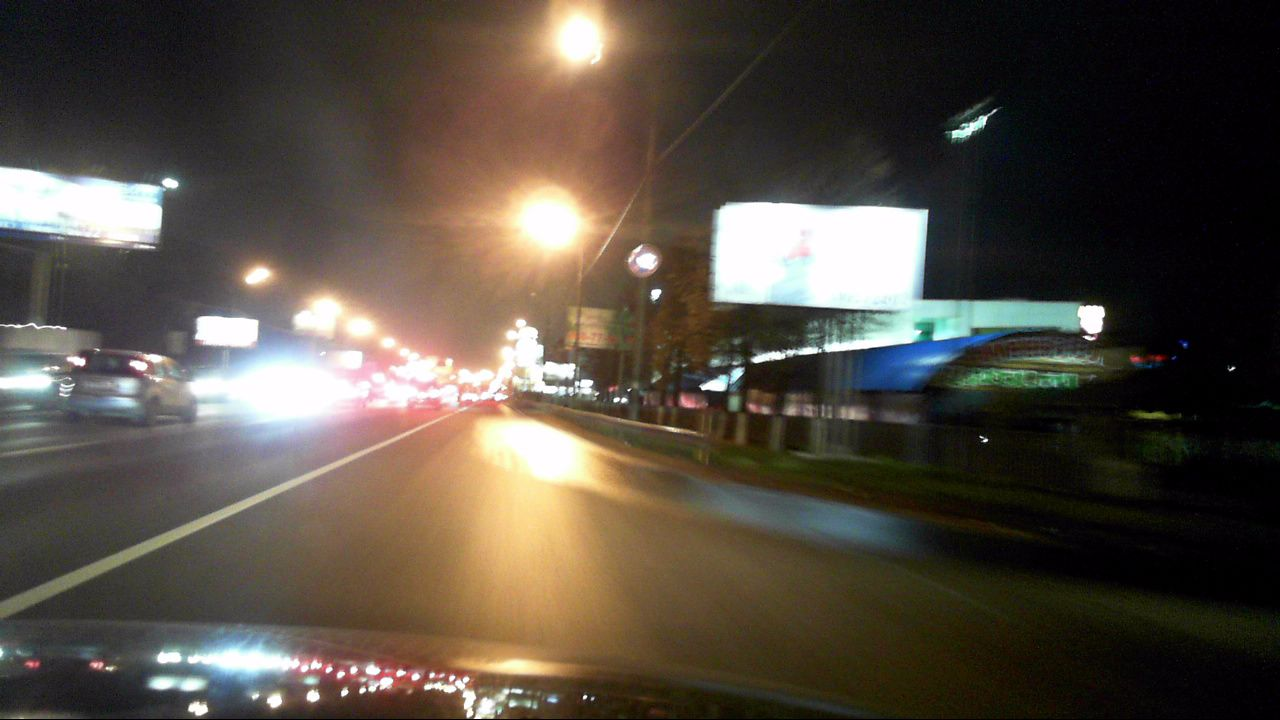No Parking: (626, 243, 660, 277)
